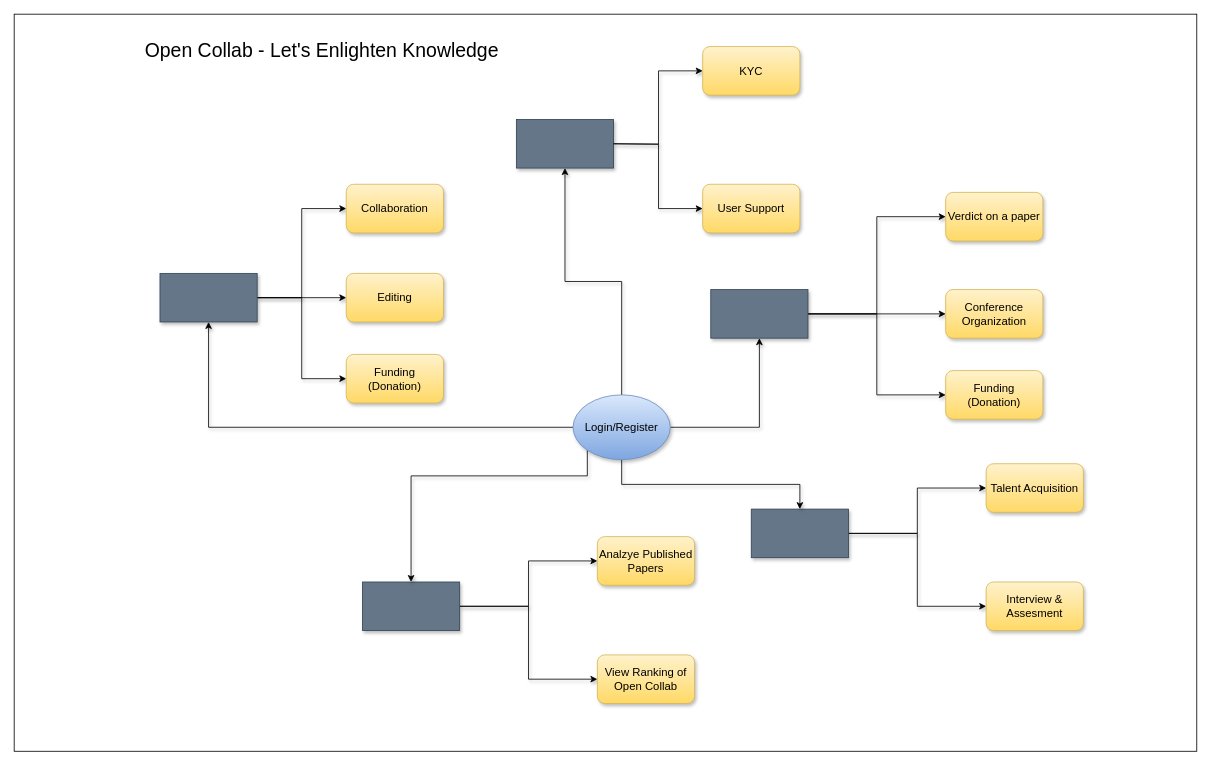
Some shapes in this 1211 by 765 pixel diagram are drawn without their labels. The centre of each missing label's shape, as x and y in pixels:
Administration: point (411, 607)
Authorization: point (565, 144)
Hiring: point (800, 534)
Research: point (209, 298)
Scrutiny: point (760, 315)
